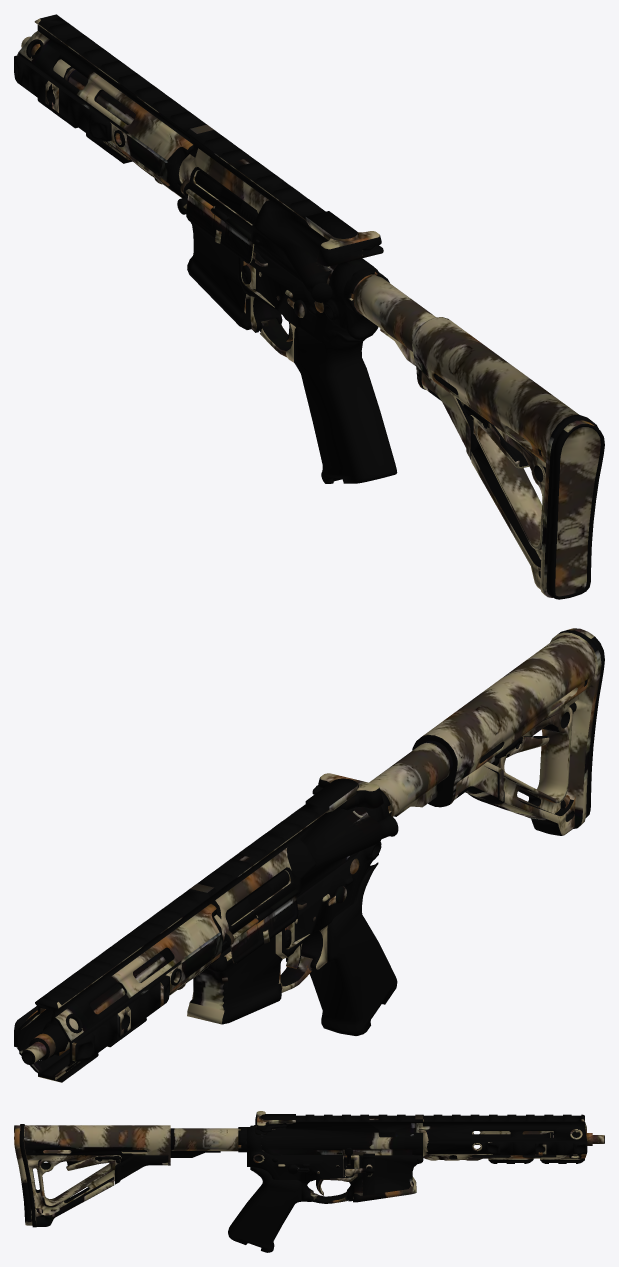
File: R4C-Leopard.glb
3 renders of one model, top to bottom at view 1: azimuth 30°, elevation 25°; view 2: azimuth 150°, elevation 25°; view 3: azimuth 270°, elevation 25°, orthographic. The views are drawn at different scales.
Parts seen in each view (by area): view 1: R4C Leopard; view 2: R4C Leopard; view 3: R4C Leopard.
Boxes of the visible parts, x1,y1,x2,y2 form: R4C Leopard: (14, 14, 604, 599); R4C Leopard: (14, 628, 604, 1082); R4C Leopard: (14, 1111, 604, 1252).
Size of the model in its own units: 0.0476 by 0.1397 by 0.5675.
1 material, 1 textured.
